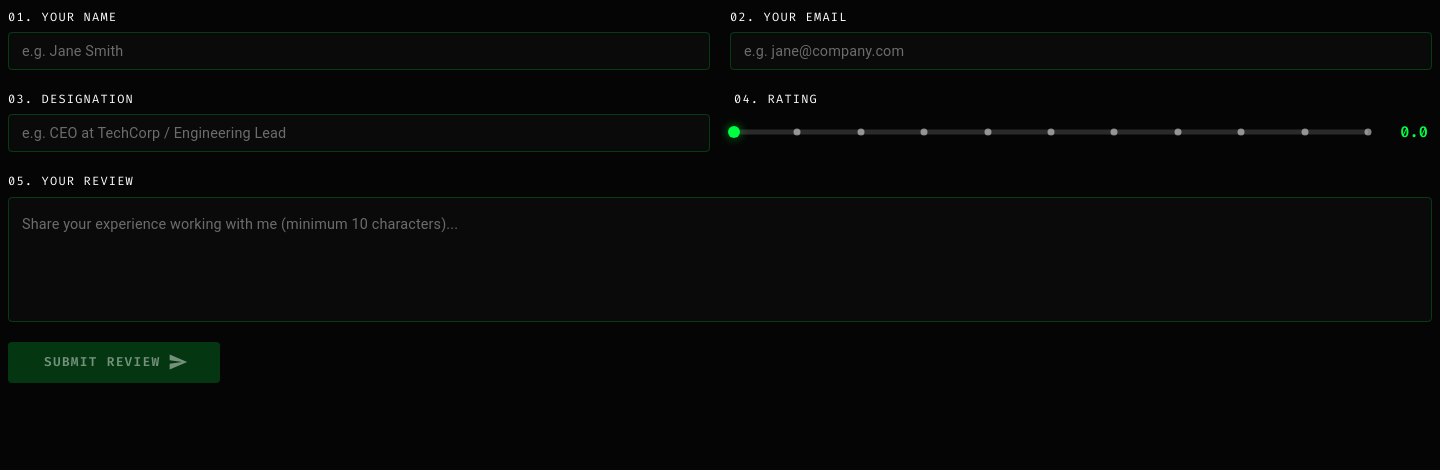
Scenario: ReviewForm Component - Production Grade Test Suite › Form Submission Flow › handles submission errors gracefully and shows error alert
Type "Jane Doe" into the field with placeholder "e.g. Jane Smith" at (359, 51), box x1=8 y1=32 x2=710 y2=70
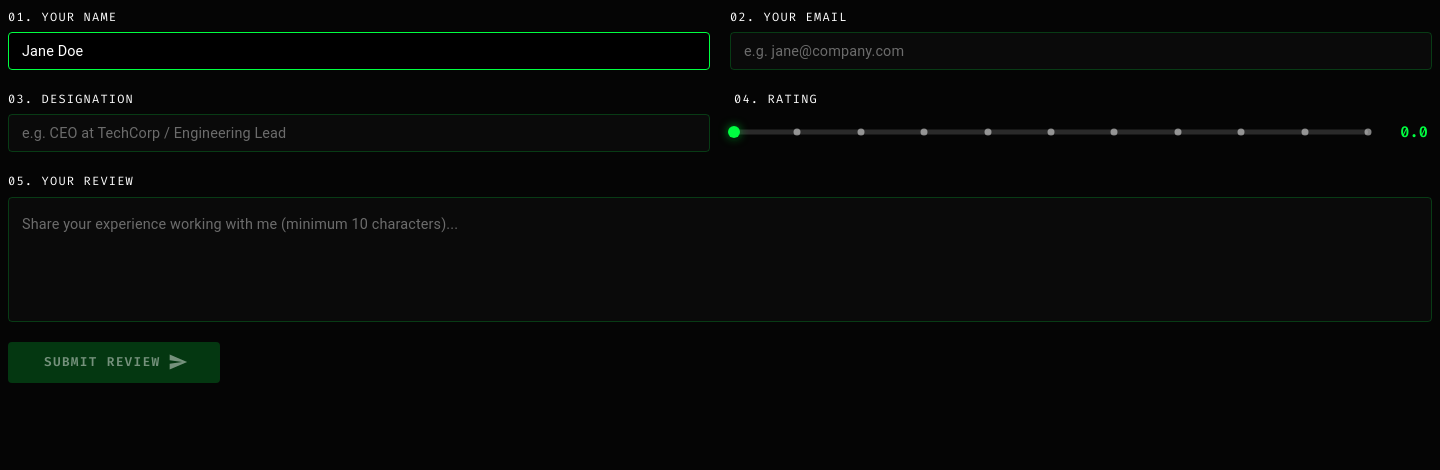
Type "jane@example.com" into the field with placeholder "e.g. jane@company.com" at (1081, 51), box x1=730 y1=32 x2=1432 y2=70
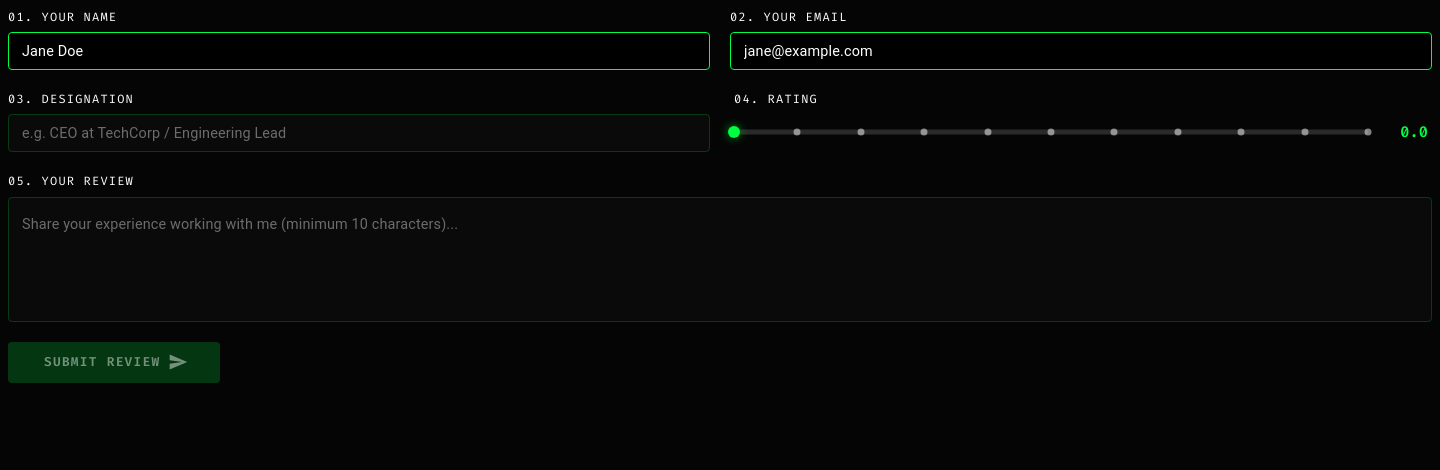
Type "Product Manager" into the field with placeholder "e.g. CEO at TechCorp / Engineering Lead" at (359, 133), box x1=8 y1=114 x2=710 y2=152
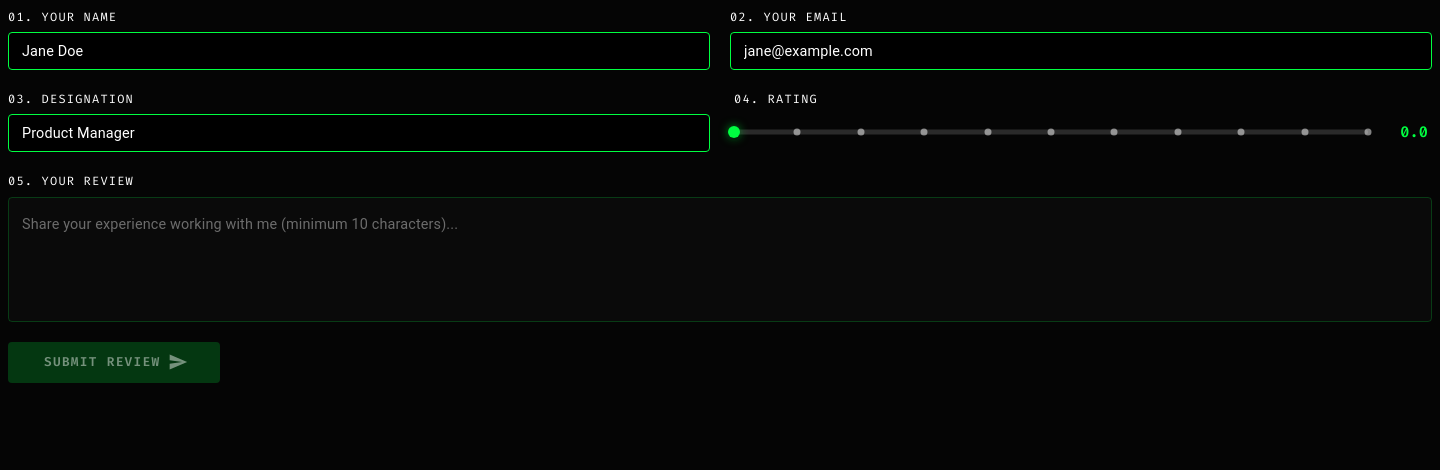
Replace the text in the text box with placeholder "Share your experience working with me (minimum 10 characters)..." with "Great work on our modern dashboard!" at (720, 259), box x1=22 y1=213 x2=1418 y2=305
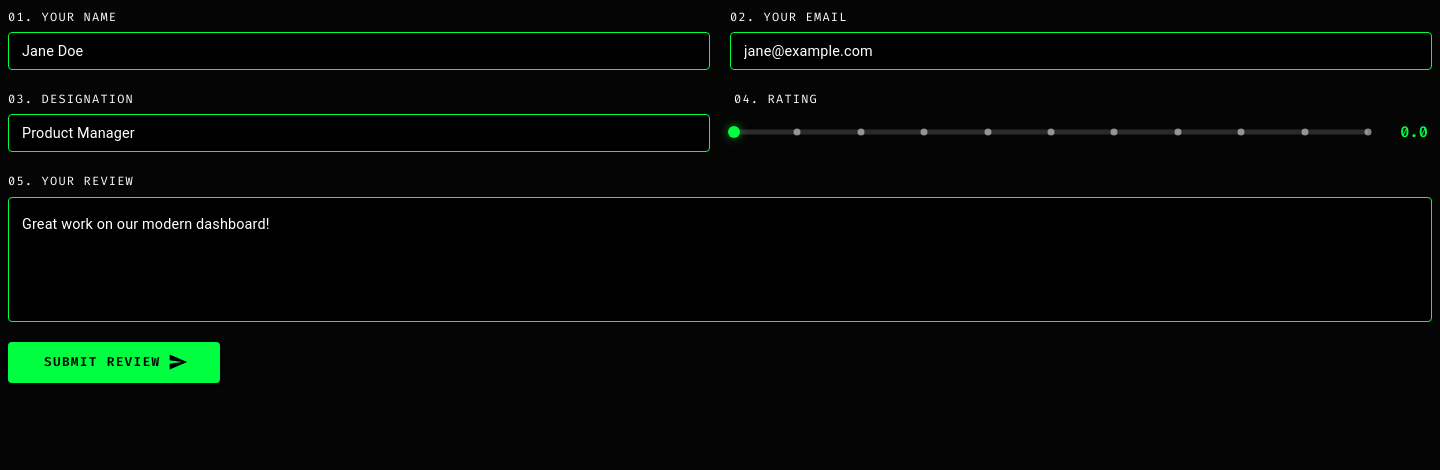
Check: the button "Submit Review" is enabled
Click the button "Submit Review" at (114, 362), box x1=8 y1=342 x2=220 y2=383
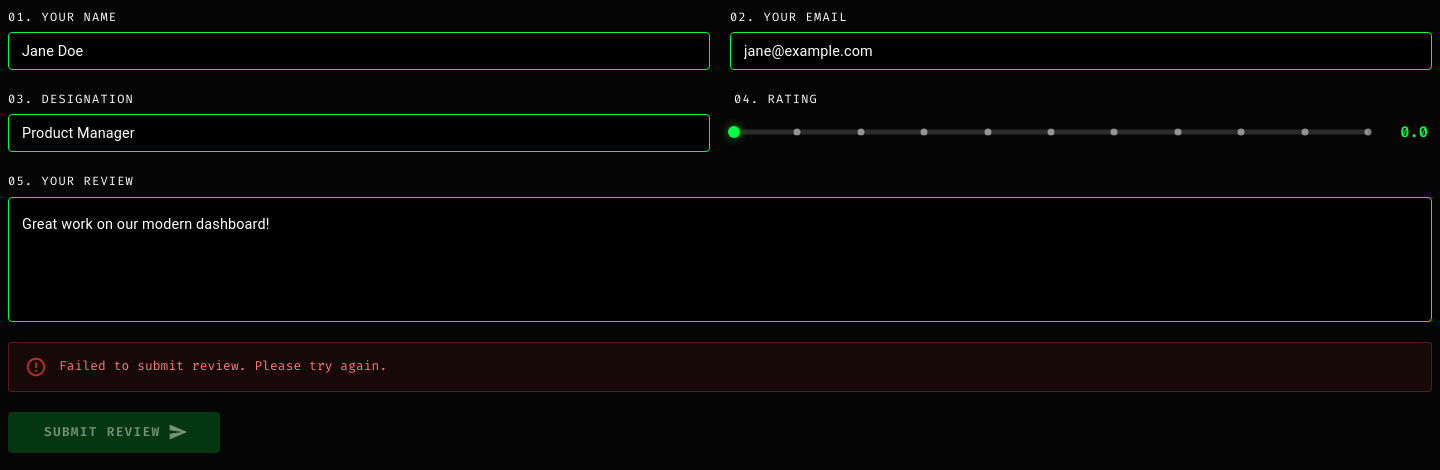
Check: the text "Failed to submit review. Please try again." is shown, box x1=59 y1=356 x2=387 y2=374
